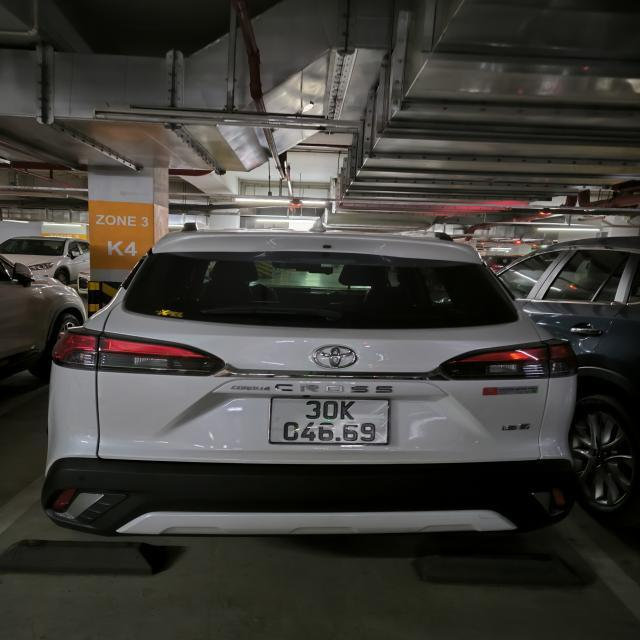license: (267, 396, 389, 445)
